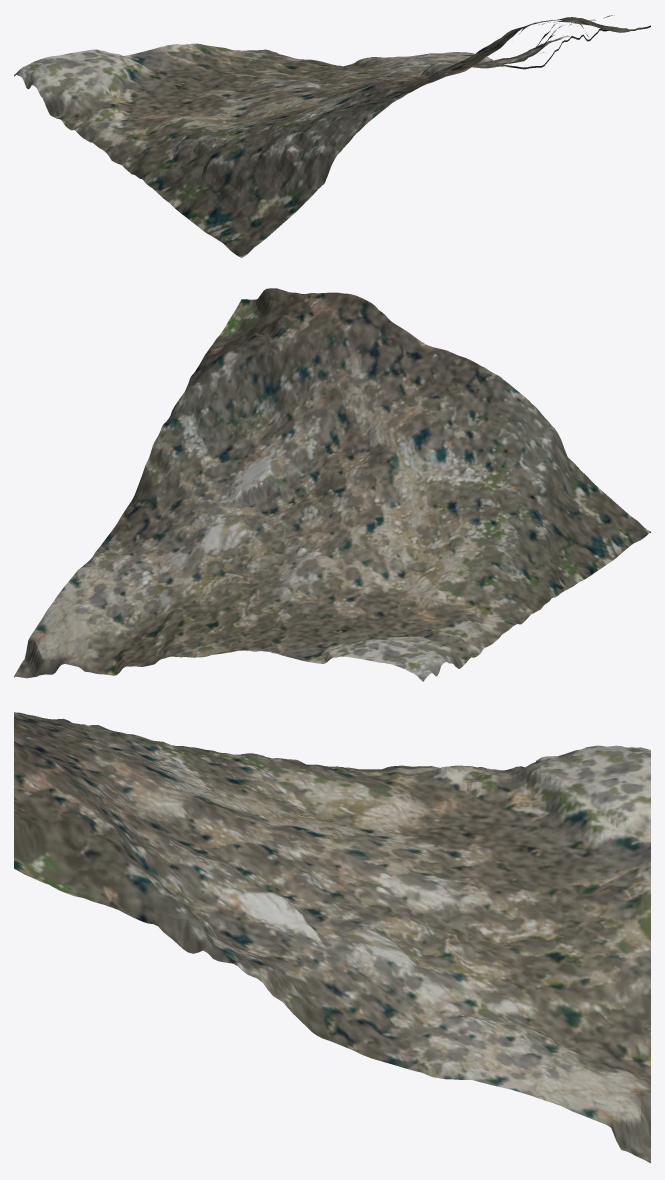
The picture shows the model from 3 angles, top to bottom: view 1: azimuth 30°, elevation 25°; view 2: azimuth 150°, elevation 25°; view 3: azimuth 270°, elevation 25°; orthographic projection. The views are drawn at different scales.
Bounding box in the file's own units: 250 × 142 × 241.
Materials: 1 (1 with a texture image).
